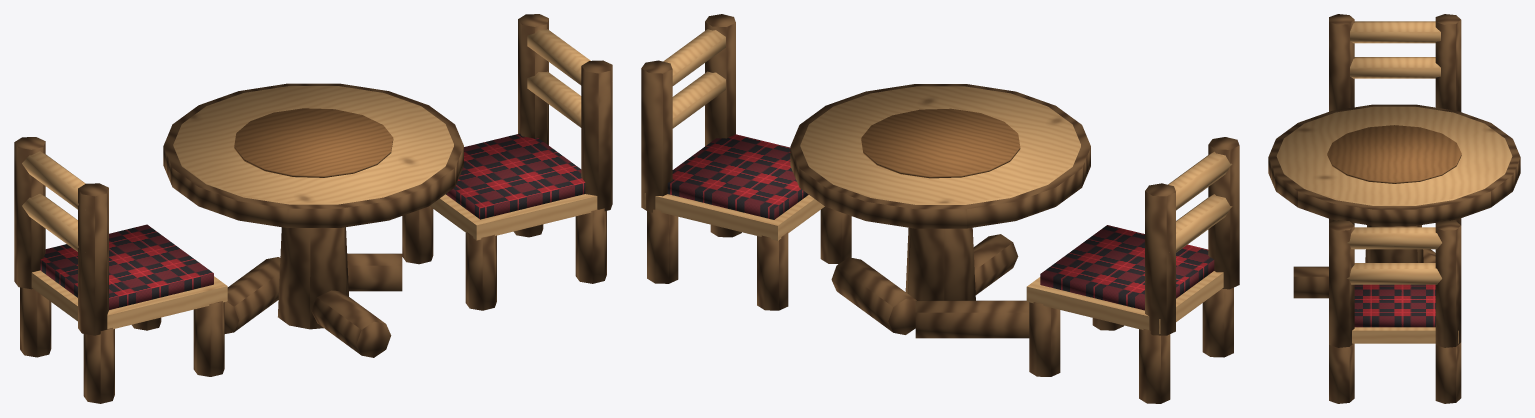
File: patio-table.glb
The picture shows the model from 3 angles, left to right: view 1: azimuth 30°, elevation 25°; view 2: azimuth 150°, elevation 25°; view 3: azimuth 270°, elevation 25°; orthographic projection. The views are drawn at different scales.
Visible parts, largest first — view 1: Top.002, ChairL-Logs, ChairR-Logs, TopBark, TopRings, Feet, ChairR-Cushion.001, ChairL-Cushion.001, Pole, ChairL-Seat, ChairR-Seat, ChairR-Rails (+1 smaller); view 2: Top.002, ChairL-Logs, ChairR-Logs, Feet, TopBark, TopRings, ChairR-Cushion.001, ChairL-Cushion.001, Pole, ChairL-Seat, ChairR-Seat, ChairL-Rails (+1 smaller); view 3: Top.002, ChairR-Logs, TopBark, TopRings, ChairL-Logs, ChairR-Rails, ChairL-Rails, ChairR-Cushion.001, ChairR-Seat, Feet, Pole.
Boxes of the visible parts, left/top/right/bottom form: Top.002: left=173, top=86, right=453, bottom=204; ChairL-Logs: left=14, top=137, right=224, bottom=403; ChairR-Logs: left=402, top=14, right=612, bottom=310; TopBark: left=163, top=83, right=463, bottom=227; TopRings: left=234, top=108, right=393, bottom=177; Feet: left=224, top=253, right=402, bottom=357; ChairR-Cushion.001: left=446, top=133, right=585, bottom=219; ChairL-Cushion.001: left=40, top=224, right=213, bottom=309; Pole: left=278, top=227, right=348, bottom=329; ChairL-Seat: left=31, top=270, right=227, bottom=329; ChairR-Seat: left=430, top=194, right=597, bottom=240; ChairR-Rails: left=527, top=29, right=590, bottom=127; Top.002: left=800, top=86, right=1080, bottom=204; ChairL-Logs: left=1029, top=137, right=1239, bottom=403; ChairR-Logs: left=641, top=14, right=851, bottom=310; Feet: left=831, top=234, right=1029, bottom=338; TopBark: left=790, top=84, right=1090, bottom=228; TopRings: left=861, top=108, right=1020, bottom=178; ChairR-Cushion.001: left=667, top=134, right=808, bottom=219; ChairL-Cushion.001: left=1040, top=225, right=1214, bottom=310; Pole: left=905, top=227, right=975, bottom=300; ChairL-Seat: left=1026, top=271, right=1223, bottom=333; ChairR-Seat: left=644, top=193, right=824, bottom=240; ChairL-Rails: left=1168, top=151, right=1232, bottom=252; Top.002: left=1276, top=106, right=1512, bottom=205; ChairR-Logs: left=1329, top=220, right=1461, bottom=403; TopBark: left=1268, top=104, right=1520, bottom=225; TopRings: left=1327, top=125, right=1461, bottom=183; ChairL-Logs: left=1329, top=14, right=1461, bottom=225; ChairR-Rails: left=1347, top=227, right=1441, bottom=284; ChairL-Rails: left=1350, top=21, right=1440, bottom=78; ChairR-Cushion.001: left=1354, top=284, right=1435, bottom=327; ChairR-Seat: left=1352, top=327, right=1458, bottom=343; Feet: left=1293, top=249, right=1435, bottom=298; Pole: left=1365, top=225, right=1423, bottom=262.
Size of the model in its own units: 0.0917 by 0.0345 by 0.045.
Materials: 4 (4 with a texture image).
